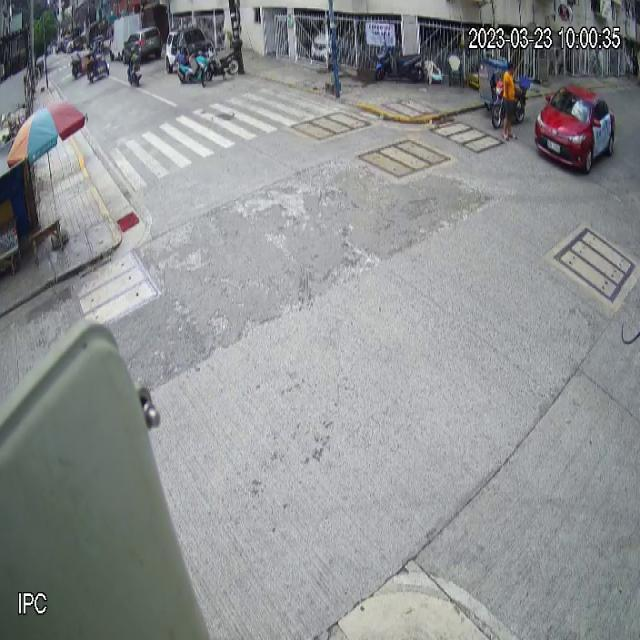Car: (534, 82, 616, 174)
Tricycle: (478, 58, 529, 129)
